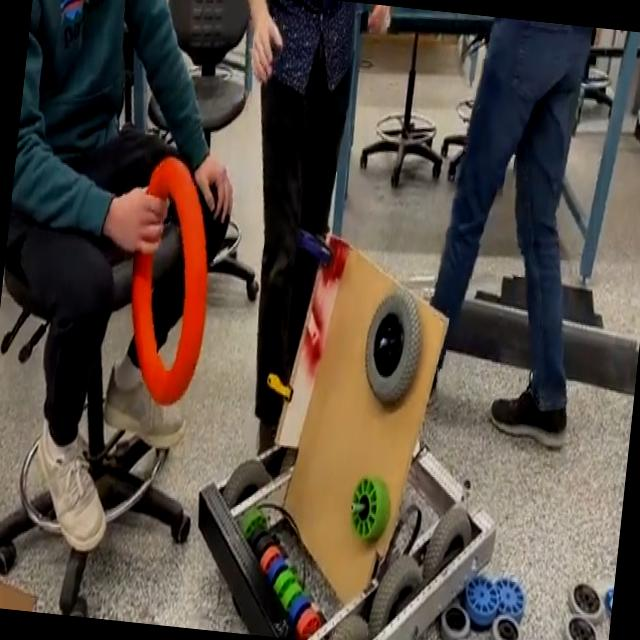note: (116, 148, 225, 412)
